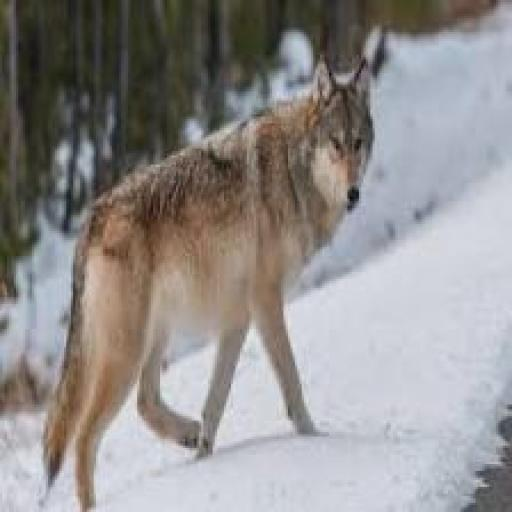wolf: (41, 41, 386, 497)
